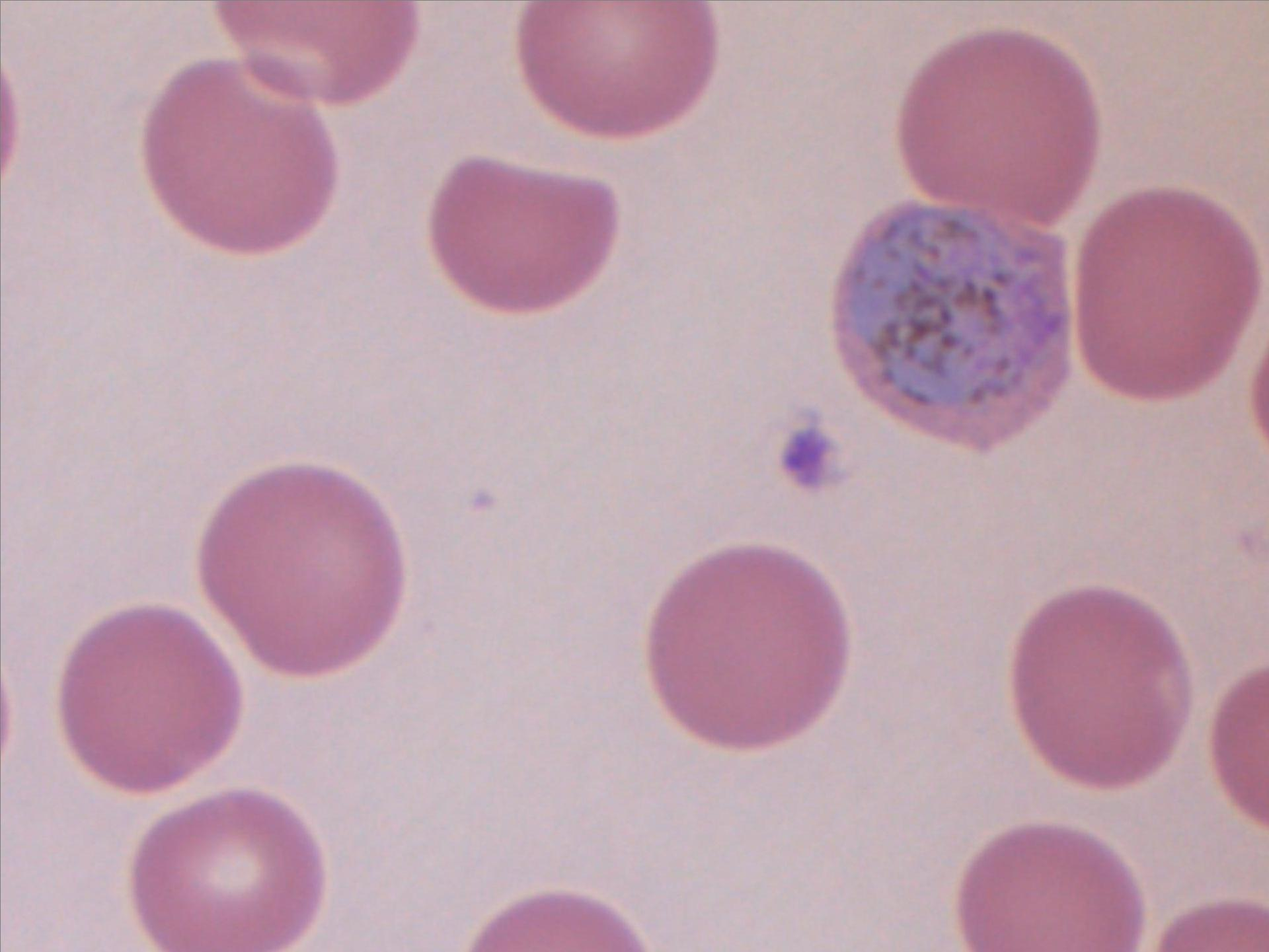Infected: (837, 190, 1071, 453)
Uninfected: (198, 465, 401, 677), (650, 545, 853, 745), (899, 25, 1100, 223), (1013, 589, 1198, 789), (1082, 192, 1251, 407), (145, 65, 335, 254), (55, 606, 239, 793), (132, 787, 322, 952), (424, 159, 615, 312), (511, 0, 715, 134), (958, 824, 1141, 952)
